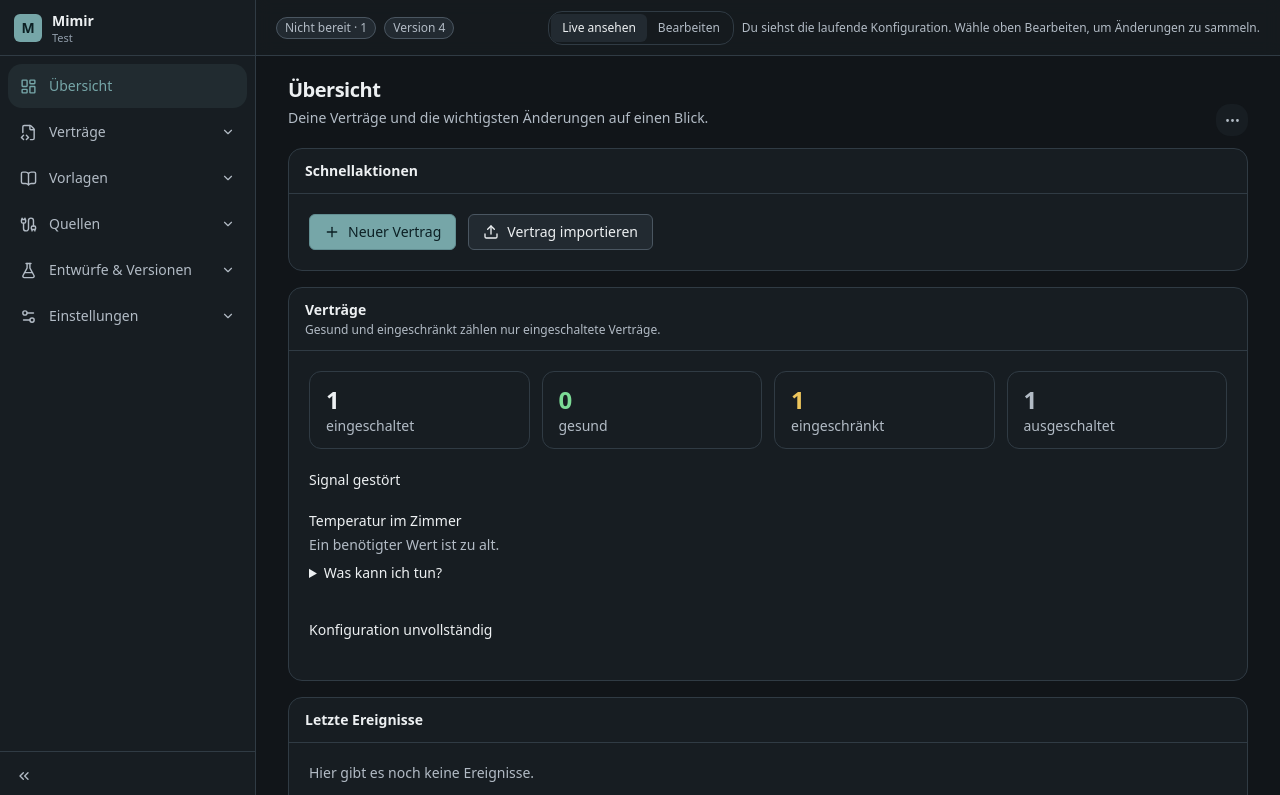
Test case: uses the same degraded category for counts, filter and chip even with an unknown stale field
Step 1. Click the link "1 eingeschränkt" → [884, 410], box x1=774 y1=371 x2=994 y2=449
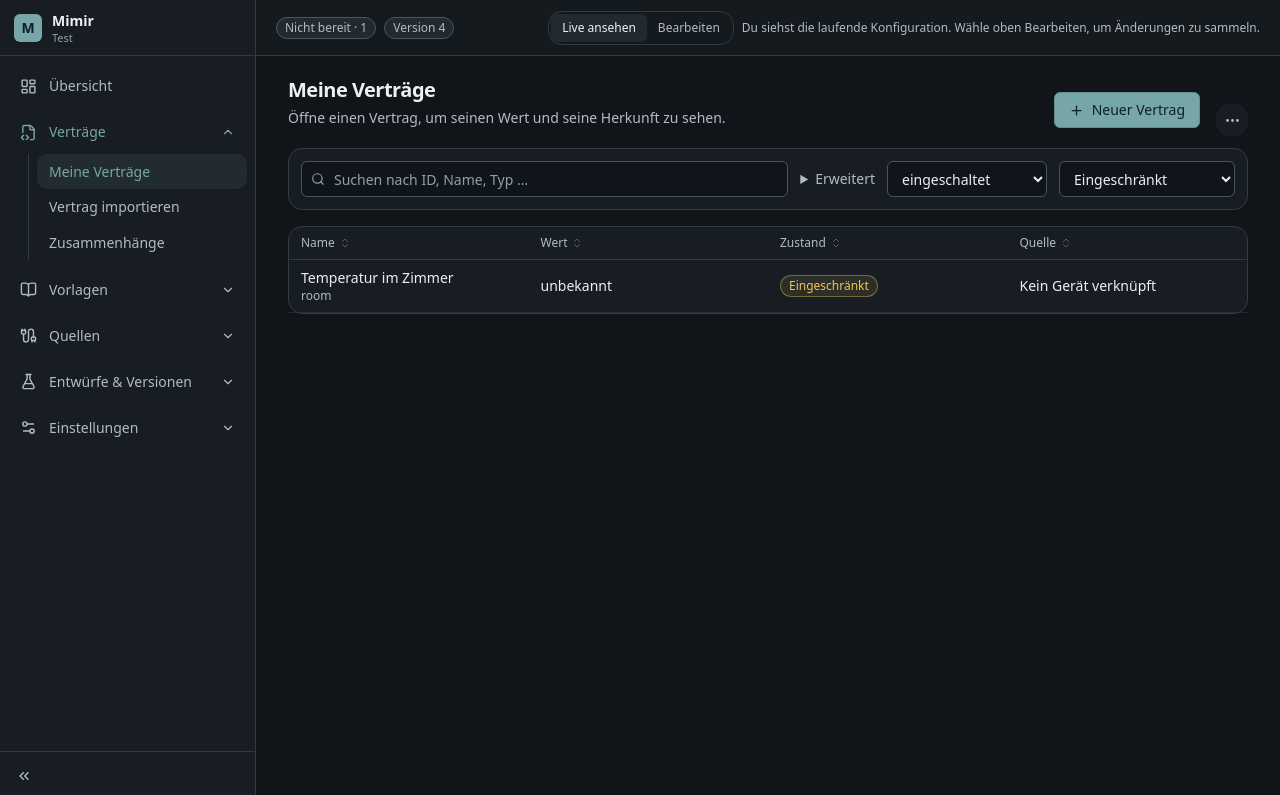
Expected: the link "Temperatur im Zimmer" is shown, x1=301 y1=268 x2=454 y2=287
Expected: the dropdown named "Zustand" shows "Eingeschränkt"
Step 2. Select "Unbekannt" in the dropdown named "Zustand" → [1147, 179], box x1=1059 y1=161 x2=1235 y2=197
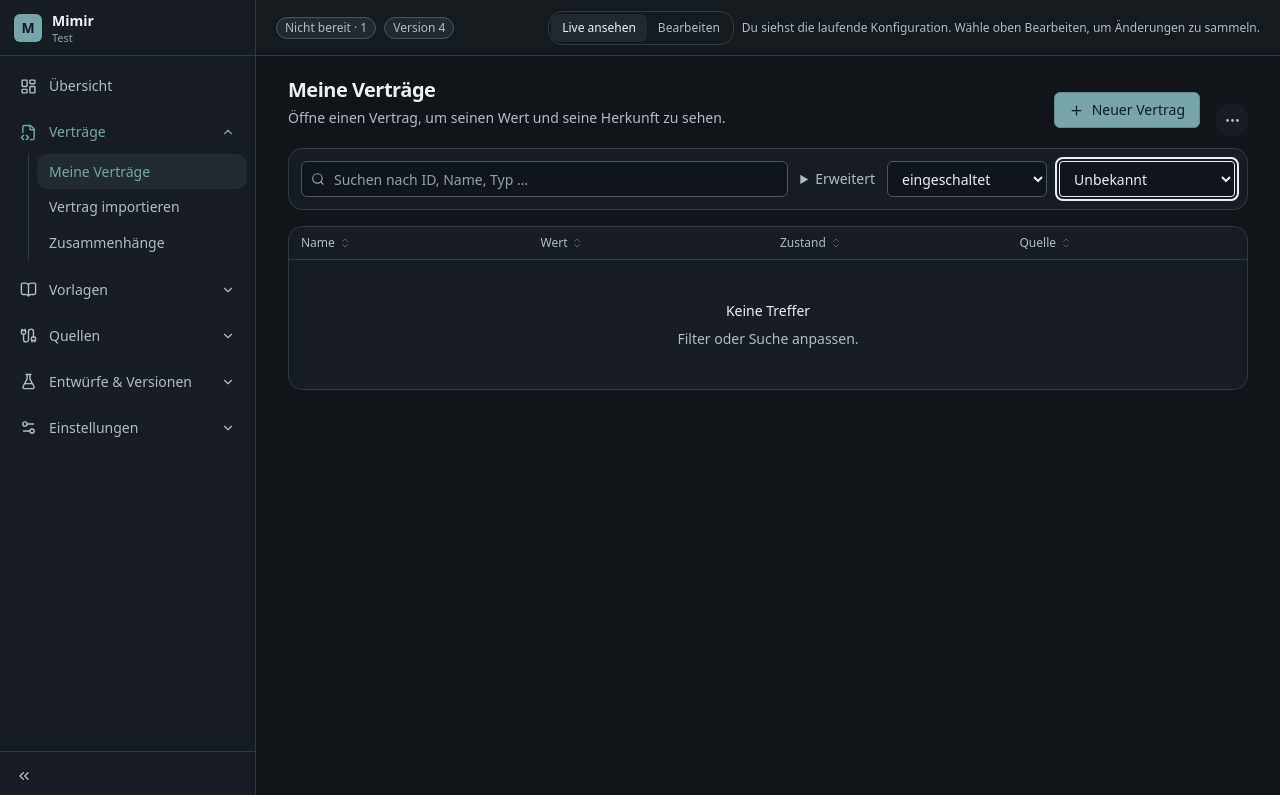
Expected: the link "Temperatur im Zimmer" is gone
